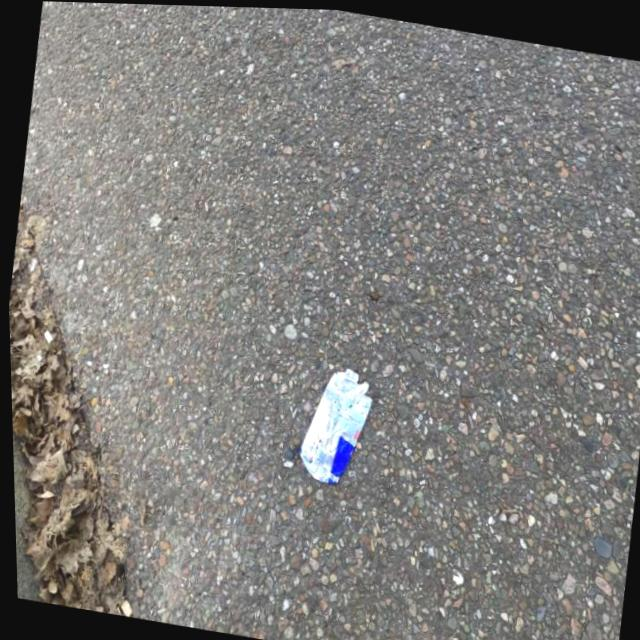Can-Metal: (287, 355, 378, 491)
